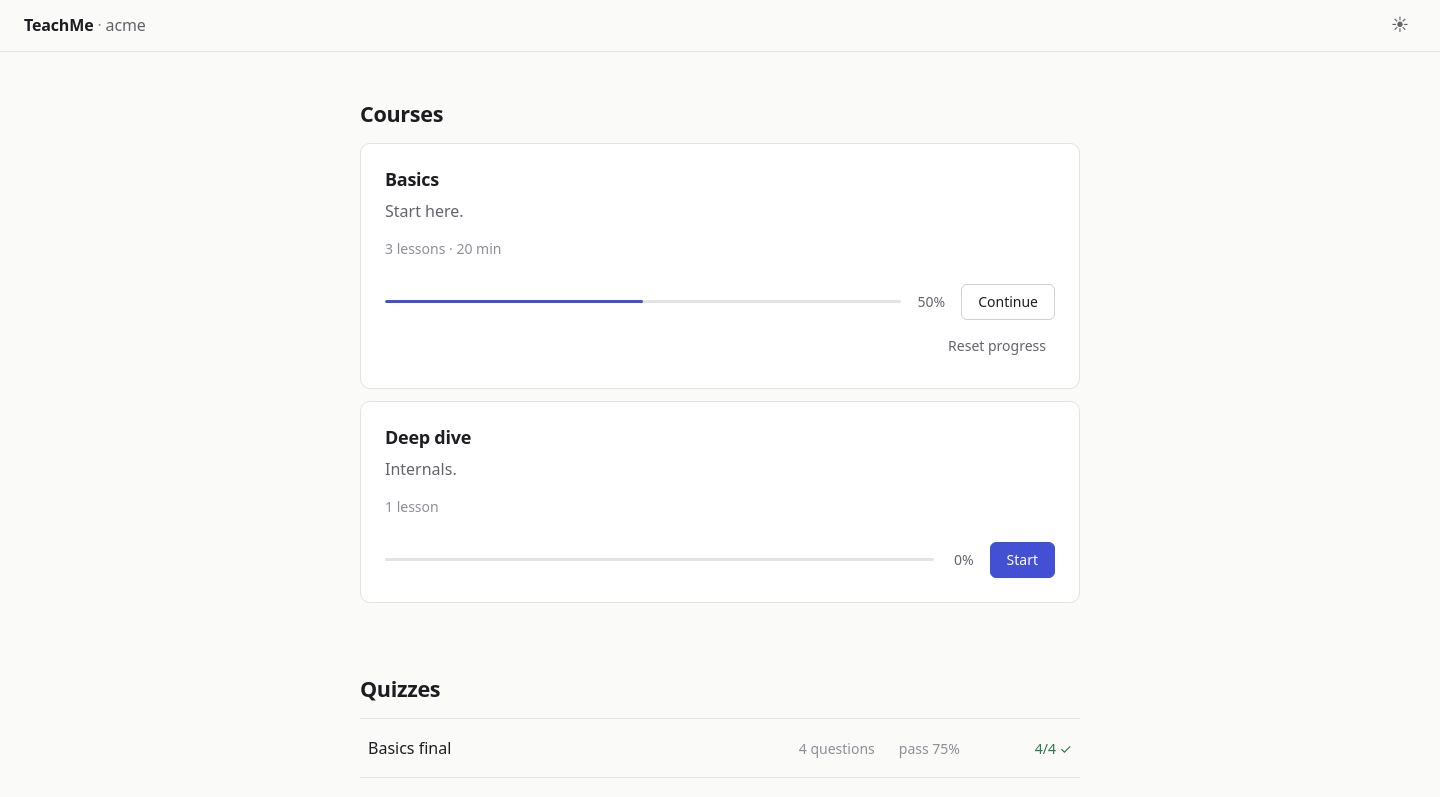
Test: Home › after a reset the card reads 0% Start even though the quiz keeps a standalone attempt
Expected: the heading "Courses" is shown, [360,99,443,128]
Click the button with aria-label "Reset progress in Basics": (997, 346) [931,328,1063,364]
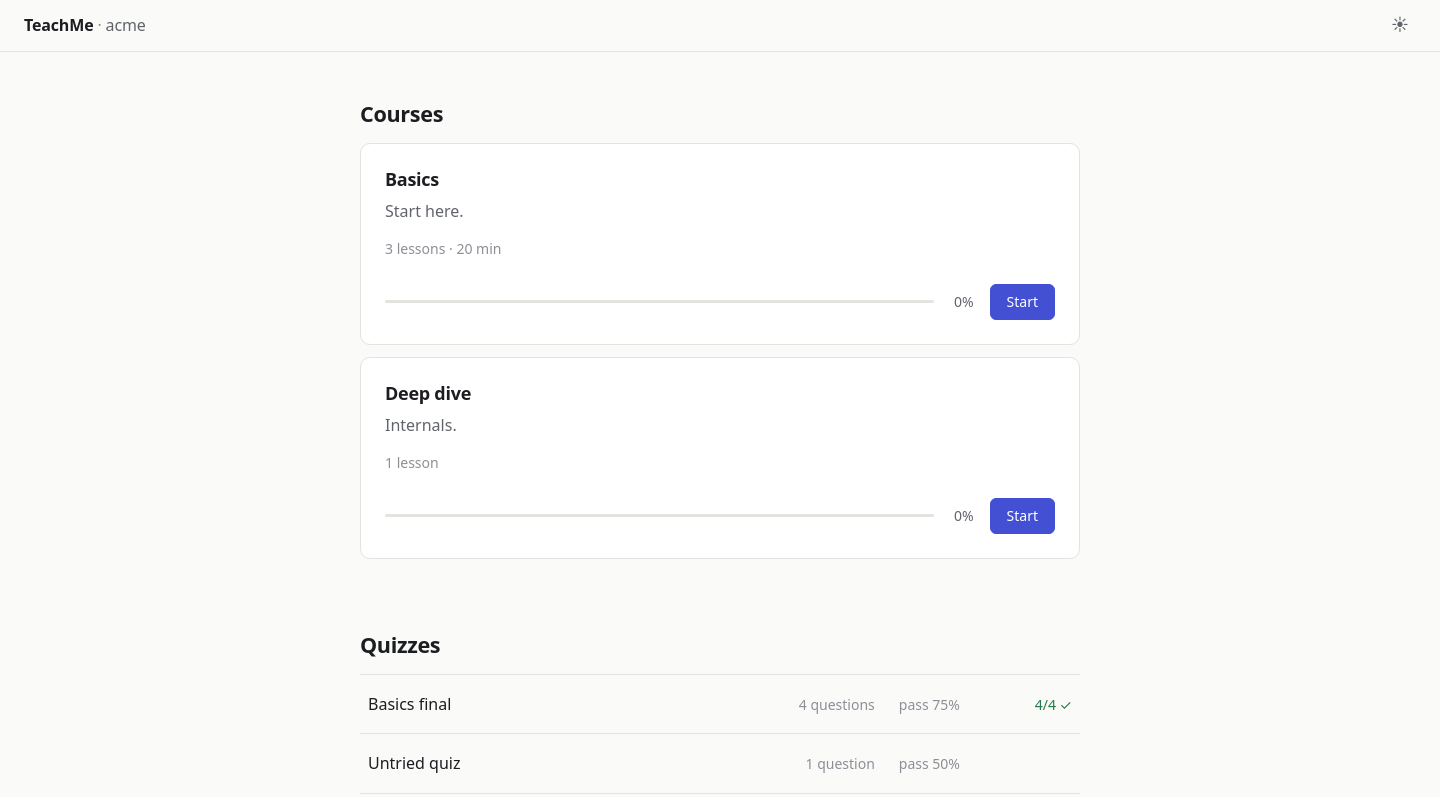
Expected: the text "4/4 ✓" is shown, [1035,695,1072,714]
Now the button "Reset progress" is gone
